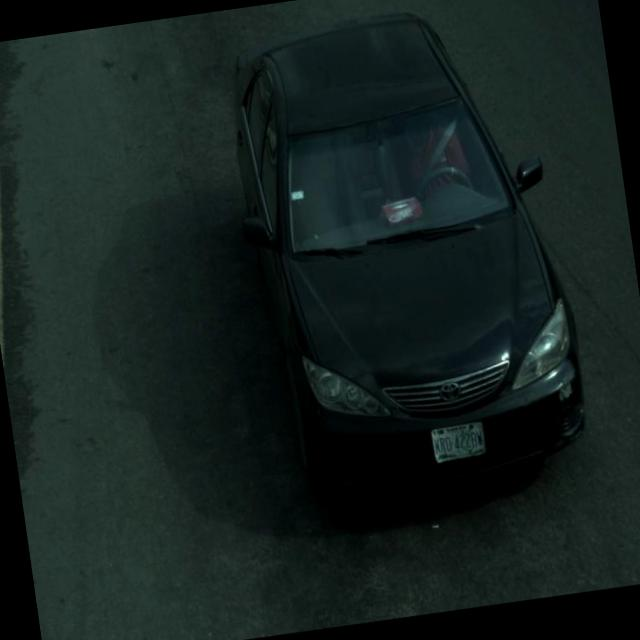person_with_seatbelt: (397, 104, 488, 214)
